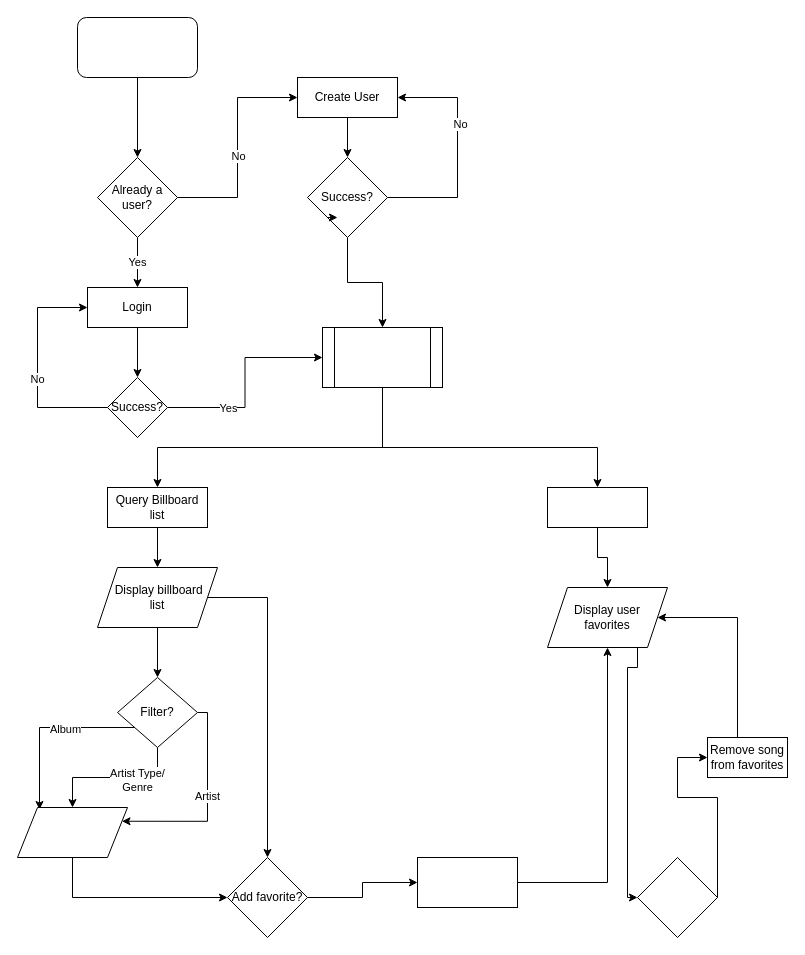
This 805x955 diagram has some shape labels left out. The shapes that lost their labels are listed below. From the top down, each one's centre as x and y in pixels, then its label:
At (x=137, y=47): "User arrives at site".
At (x=382, y=357): "Display Main Page".
At (x=597, y=507): "Query User Favorites".
At (x=72, y=832): "Display filtered data".
At (x=467, y=882): "Add song to favorites".
At (x=677, y=897): "Remove favorite?".
